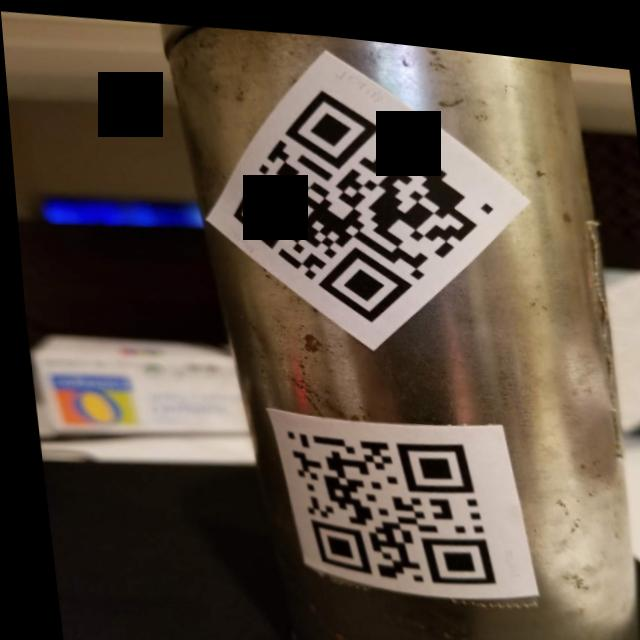QR_CODE: (200, 56, 516, 337), (272, 400, 505, 593)
